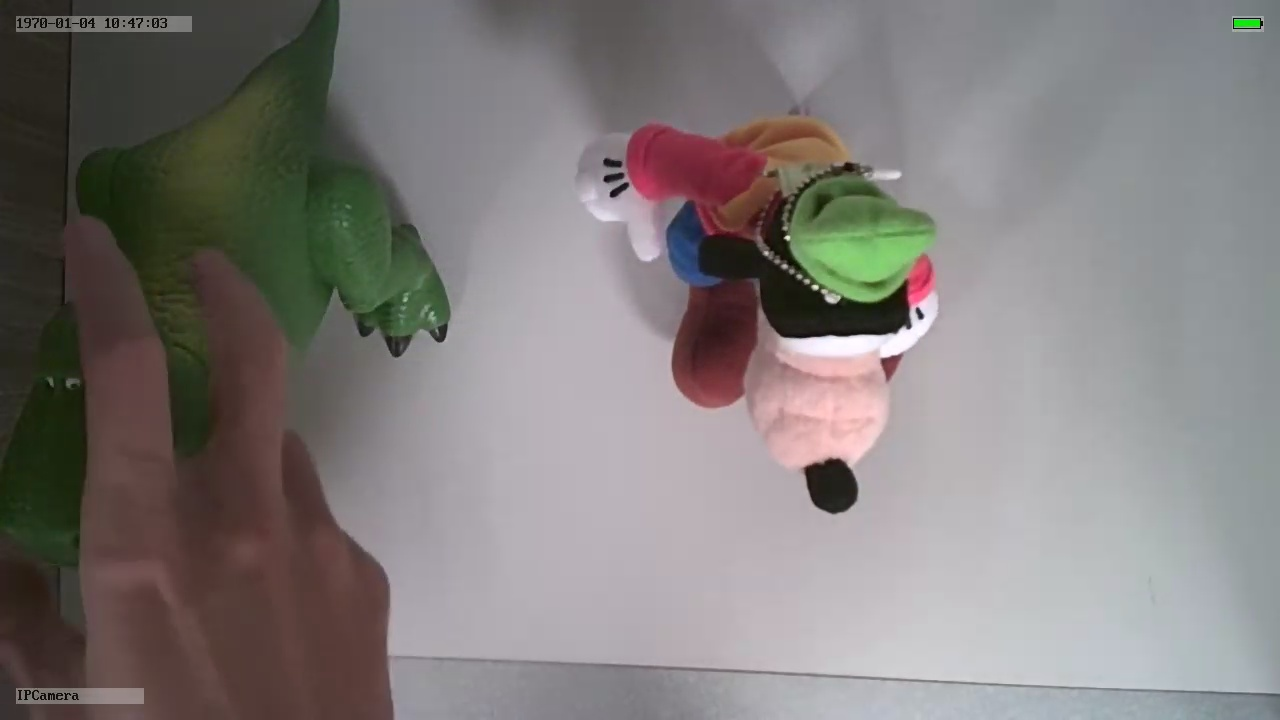goofy: (570, 118, 948, 518)
